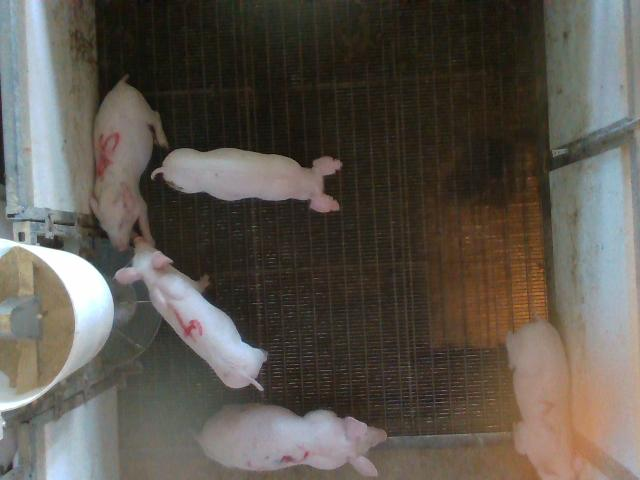pig-2: (506, 319, 574, 479)
pig-3: (196, 405, 386, 476)
pig-4: (115, 236, 268, 391)
pig-5: (90, 76, 168, 251)
